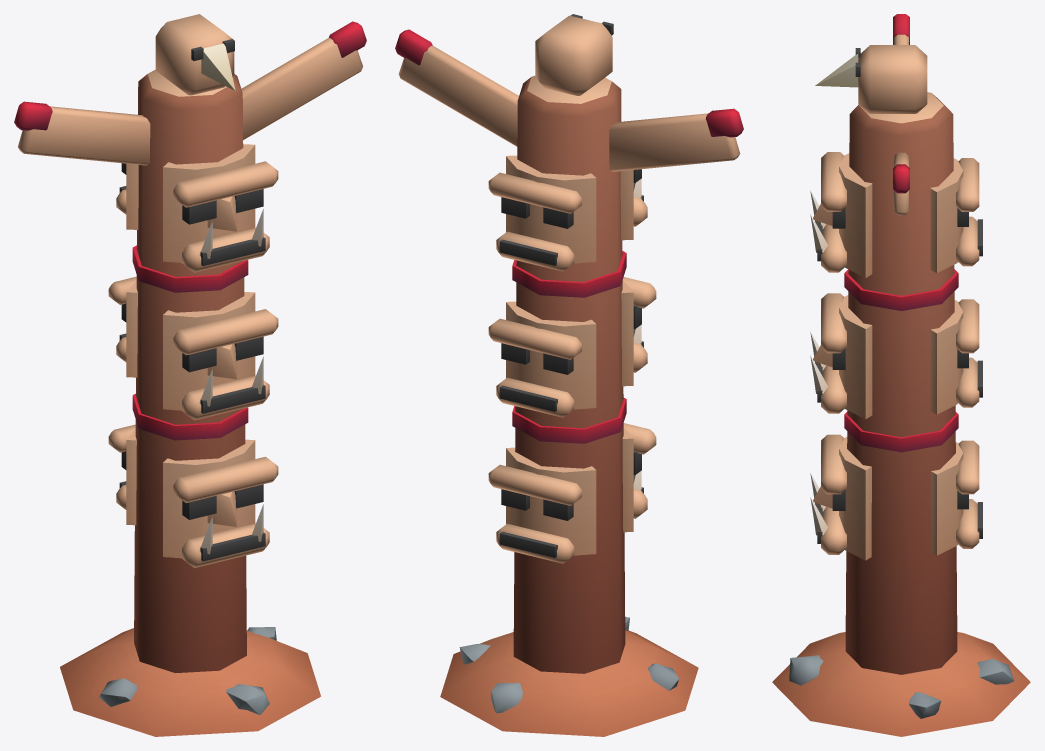
File: totem_A.fbx
3 views of the same model, side by side, from view 1: azimuth 30°, elevation 25°; view 2: azimuth 150°, elevation 25°; view 3: azimuth 270°, elevation 25° (orthographic). The views are drawn at different scales.
Parts seen in each view (by area): view 1: totem_A; view 2: totem_A; view 3: totem_A.
Part boxes in pixels (x1,y1,x2,y2): totem_A: (14,14,366,736); totem_A: (395,14,743,736); totem_A: (772,14,1030,736).
Bounding box in the file's own units: 0.8884 × 1.64 × 0.598.
1 material, 1 textured.
